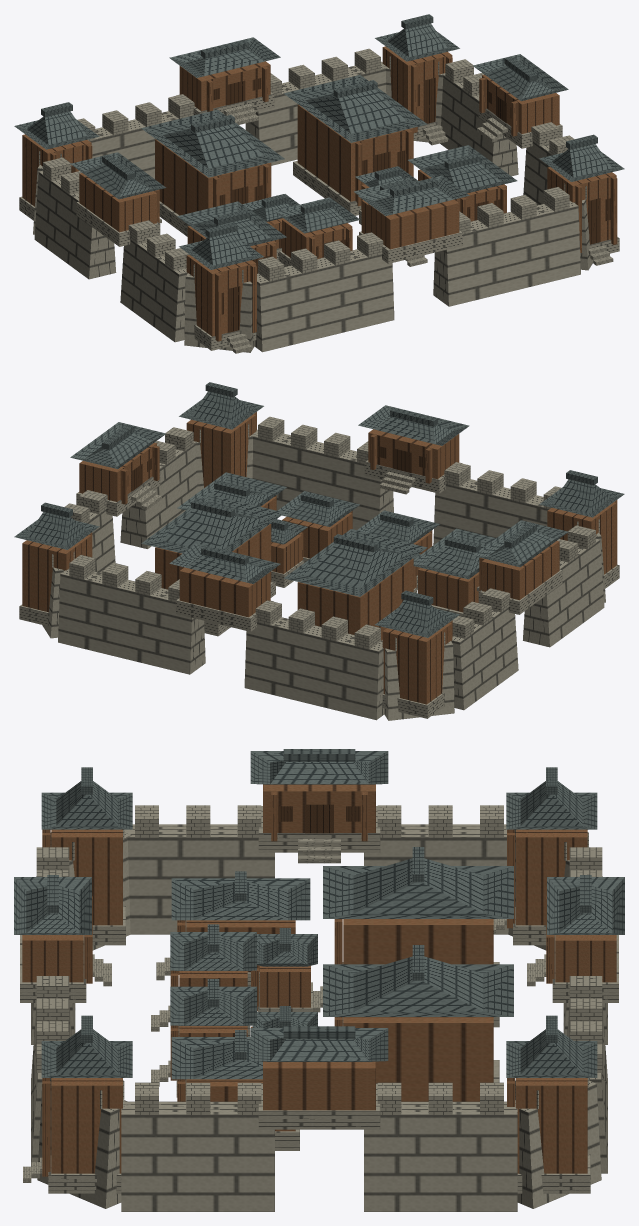
The model's file is city1-lod0.glb.
3 renders of one model, top to bottom at view 1: azimuth 30°, elevation 25°; view 2: azimuth 150°, elevation 25°; view 3: azimuth 270°, elevation 25°, orthographic. The views are drawn at different scales.
Bounding box in the file's own units: 2.15 × 0.561 × 1.79.
1 material, 1 textured.
